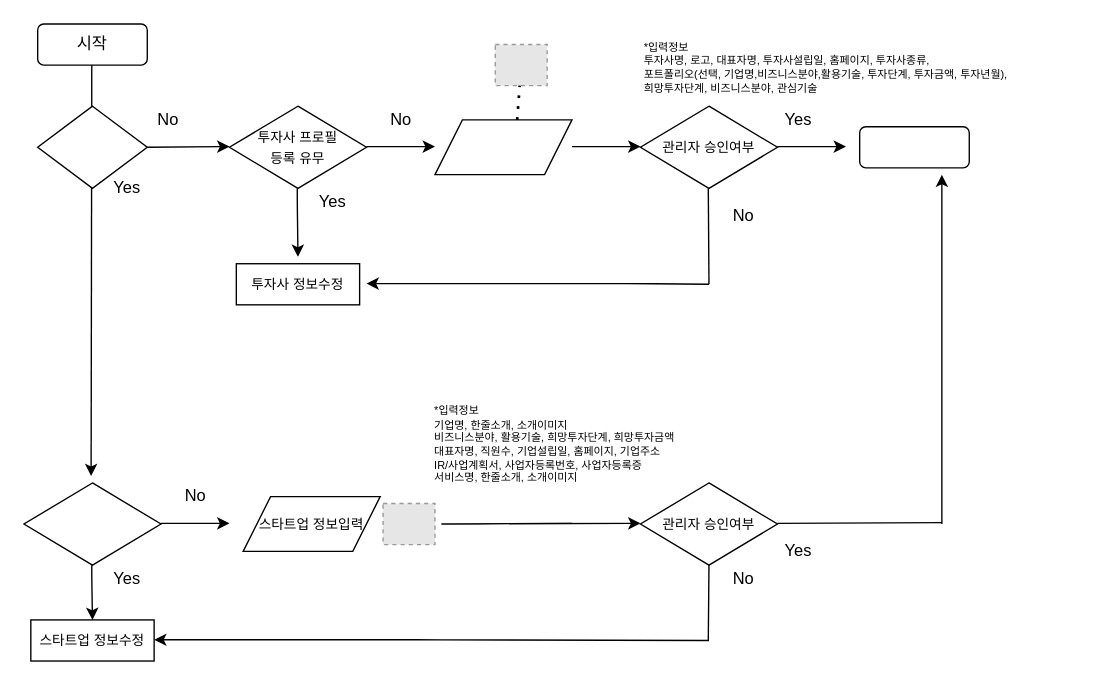
The diagram is 1103 pixels wide and 685 high, and some of its shapes have lost their labels. Grey dashed boxes stand in for pictures. Here are the shapes that lost their labels. From the top down, the box of each, then its label:
(36, 105, 147, 188): 스타트업 선택여부
(434, 119, 572, 175): 투자사 정보입력
(858, 125, 969, 168): 종료
(23, 482, 161, 565): 스타트업 프로필 등록 유무
